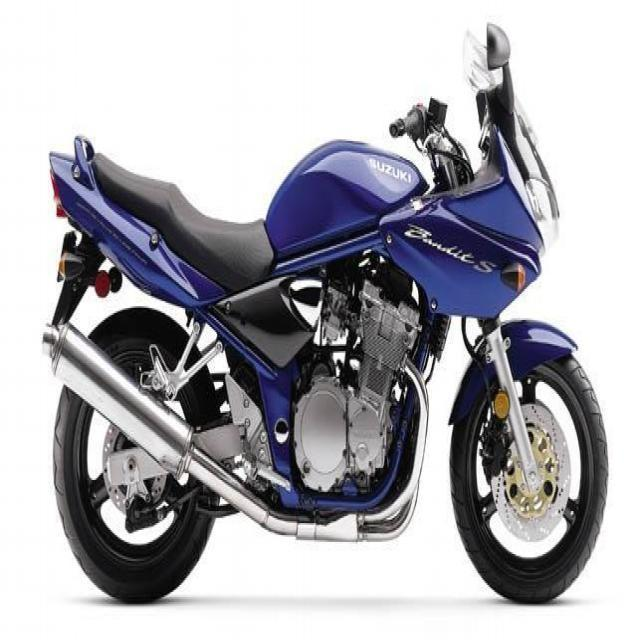Motorcycle: (43, 55, 612, 612)
